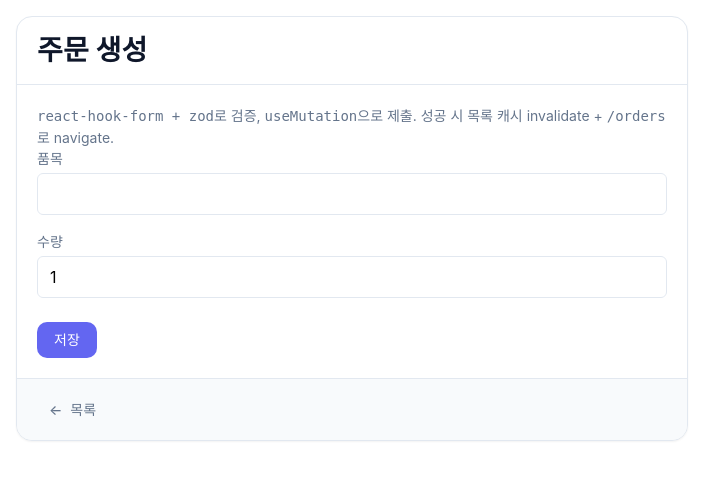
OrderNewPage › 빈 품목으로 제출하면 zod 에러를 표시하고 navigate하지 않는다
Click the button "저장". click: [67, 340]
box: x1=37 y1=322 x2=97 y2=358
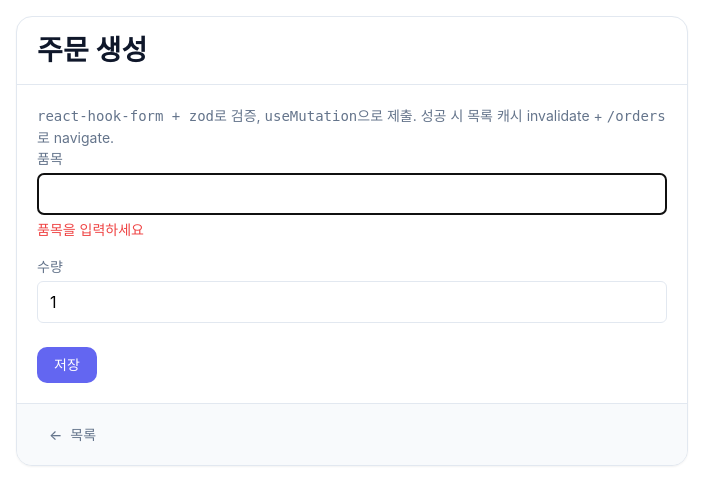
Expected: the heading "주문 생성" is shown, x1=37 y1=33 x2=147 y2=67
Expected: the text "품목을 입력하세요" is shown, x1=37 y1=221 x2=144 y2=238
